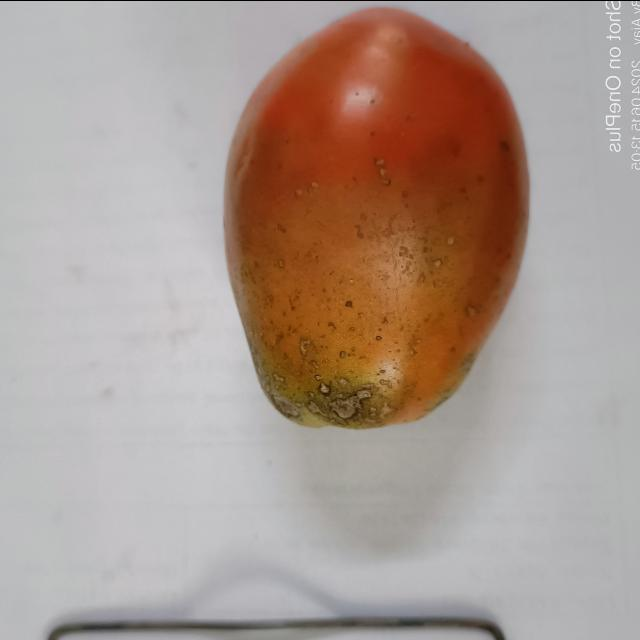Bacterial_Spot: (305, 374, 393, 420), (272, 394, 302, 418), (298, 338, 312, 357), (271, 371, 285, 381), (338, 348, 346, 358), (434, 258, 442, 268), (374, 333, 382, 341), (344, 299, 352, 307), (278, 259, 284, 268)
